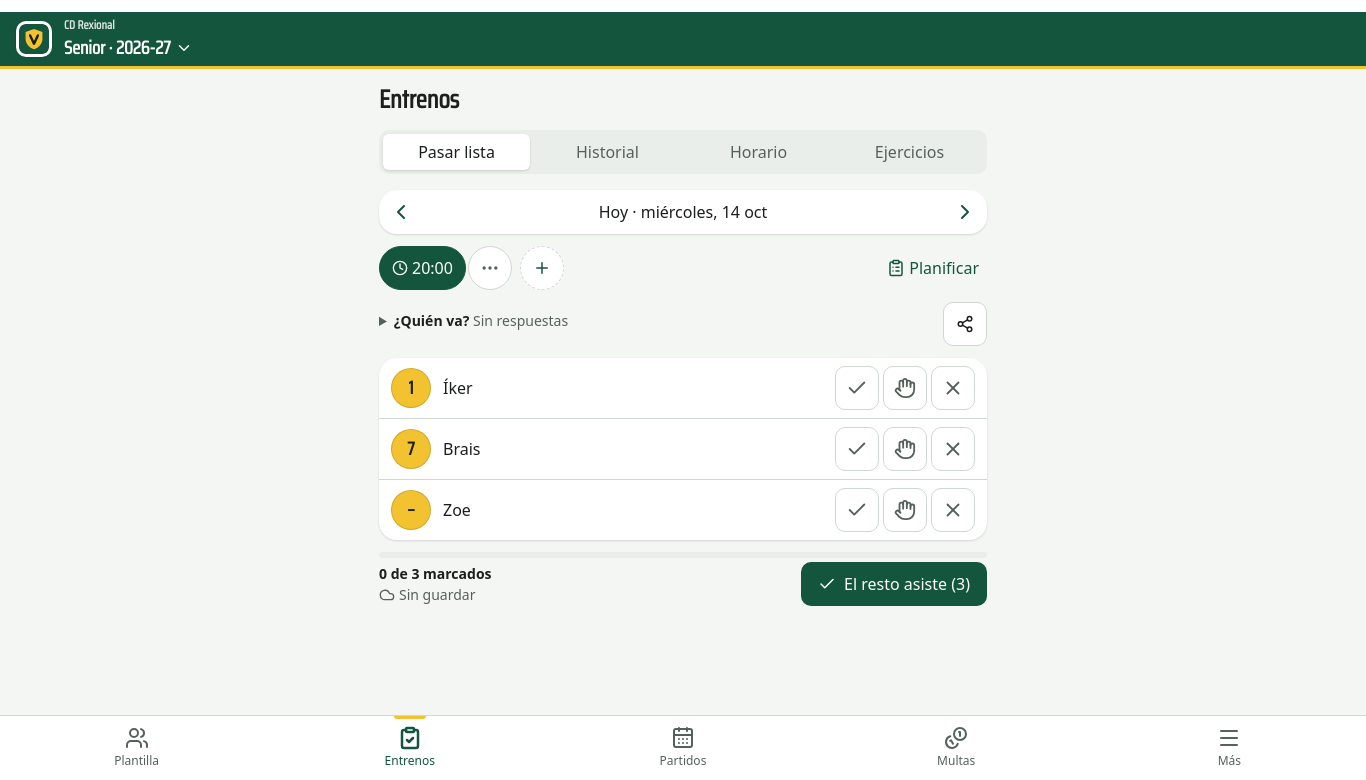
Scenario: pasar lista › marca, desmarca y guarda la lista completa automáticamente
expect the text "Íker" is shown: met, box [443, 377, 473, 399]
expect the text "0 de 3 marcados" is shown: met, box [379, 564, 492, 583]
Click the button named "Asiste" in the row of "Íker" at coordinates (857, 388), box [835, 366, 879, 410]
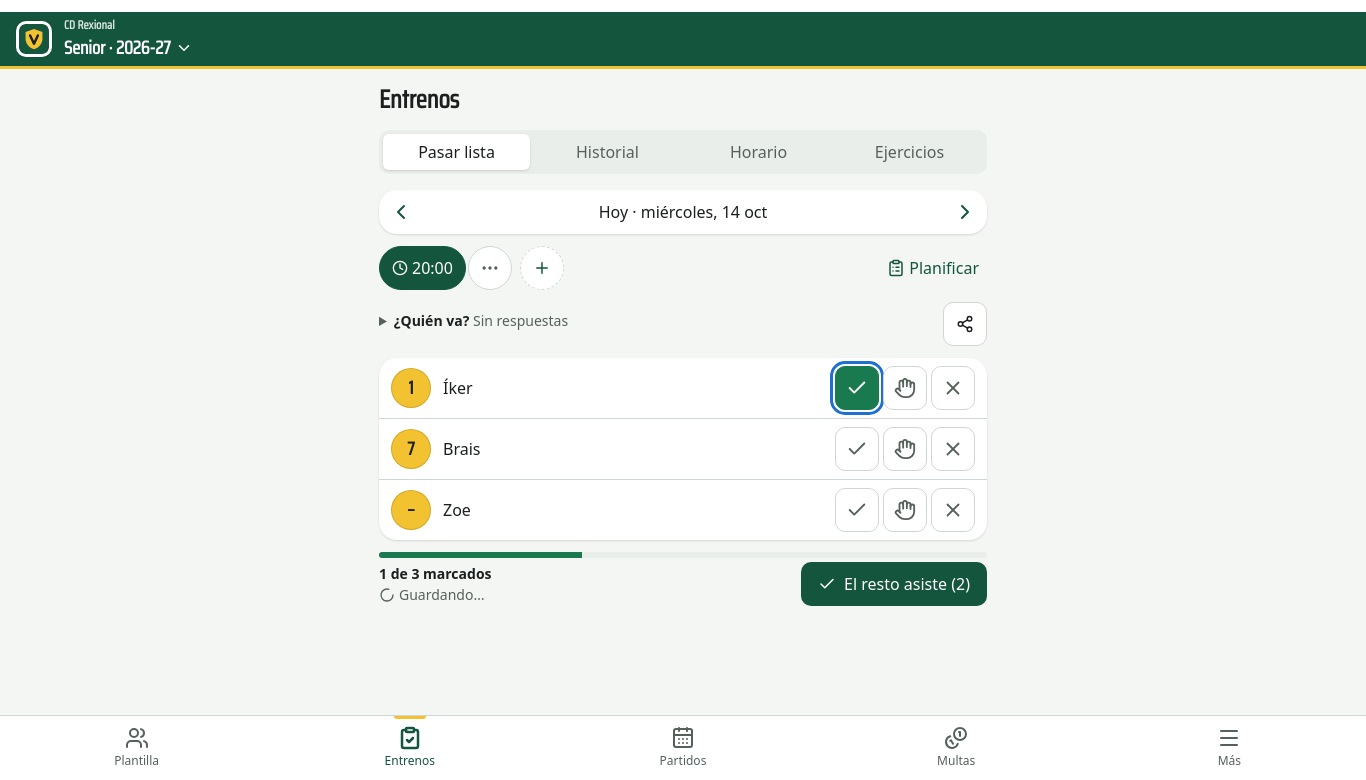
Click the button named "Falta" in the row of "Brais" at coordinates (953, 449), box [931, 427, 975, 471]
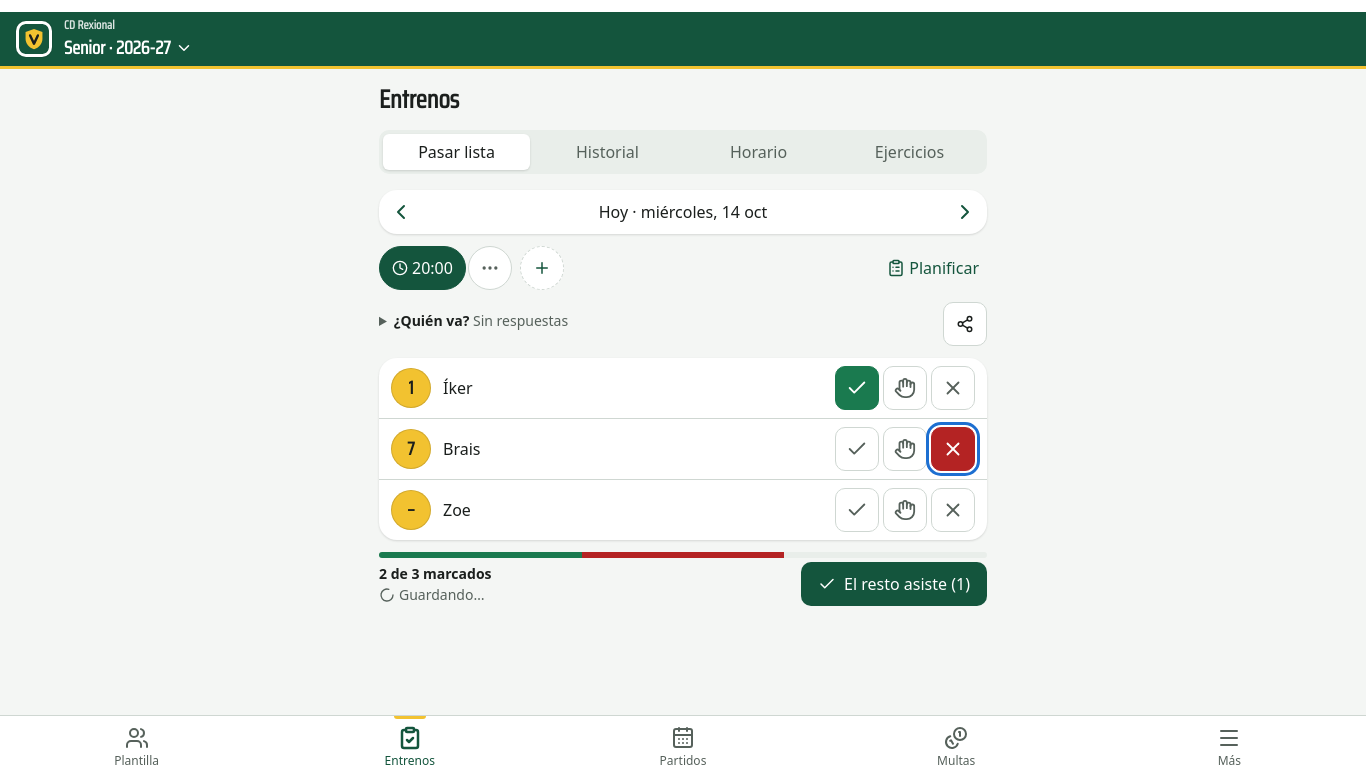
Click the button named "Asiste" in the row of "Zoe" at coordinates (857, 510), box [835, 488, 879, 532]
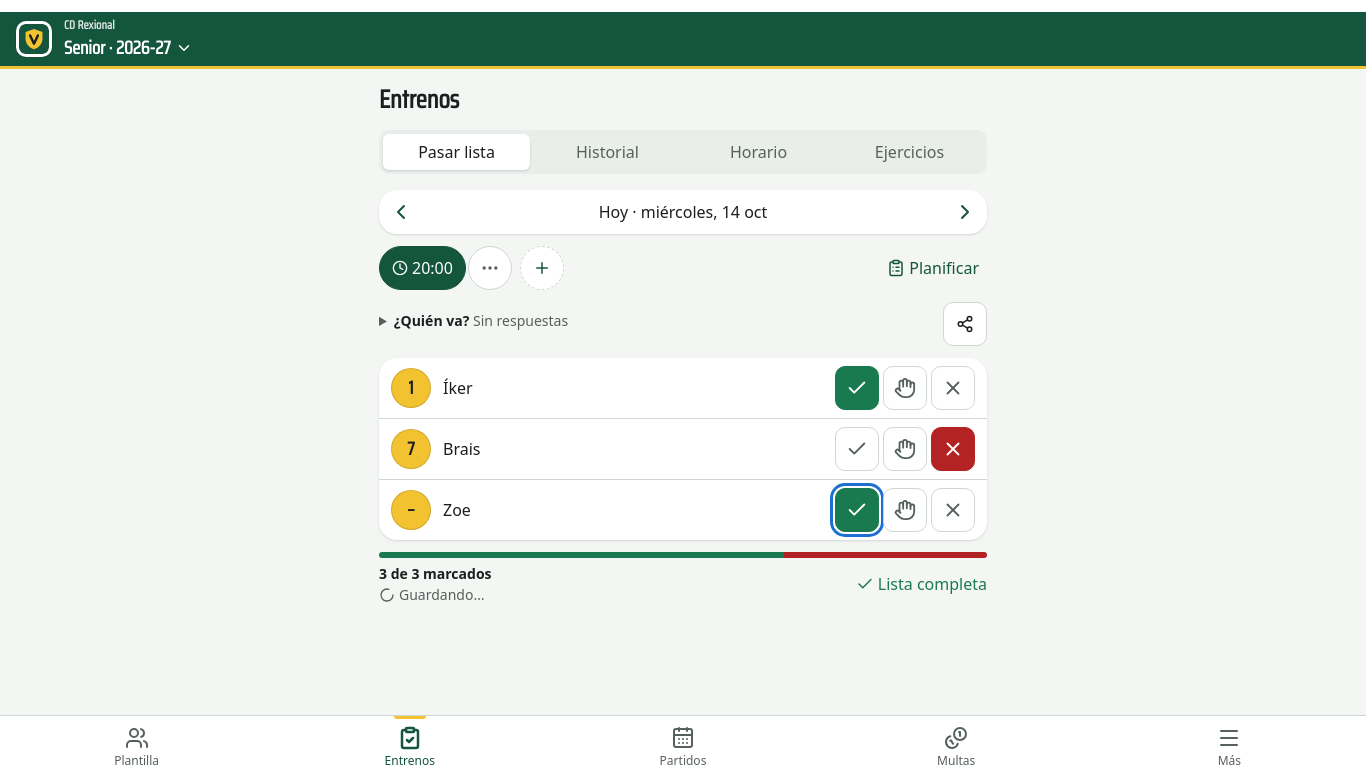
Click the button named "Asiste" in the row of "Zoe" at coordinates (857, 510), box [835, 488, 879, 532]
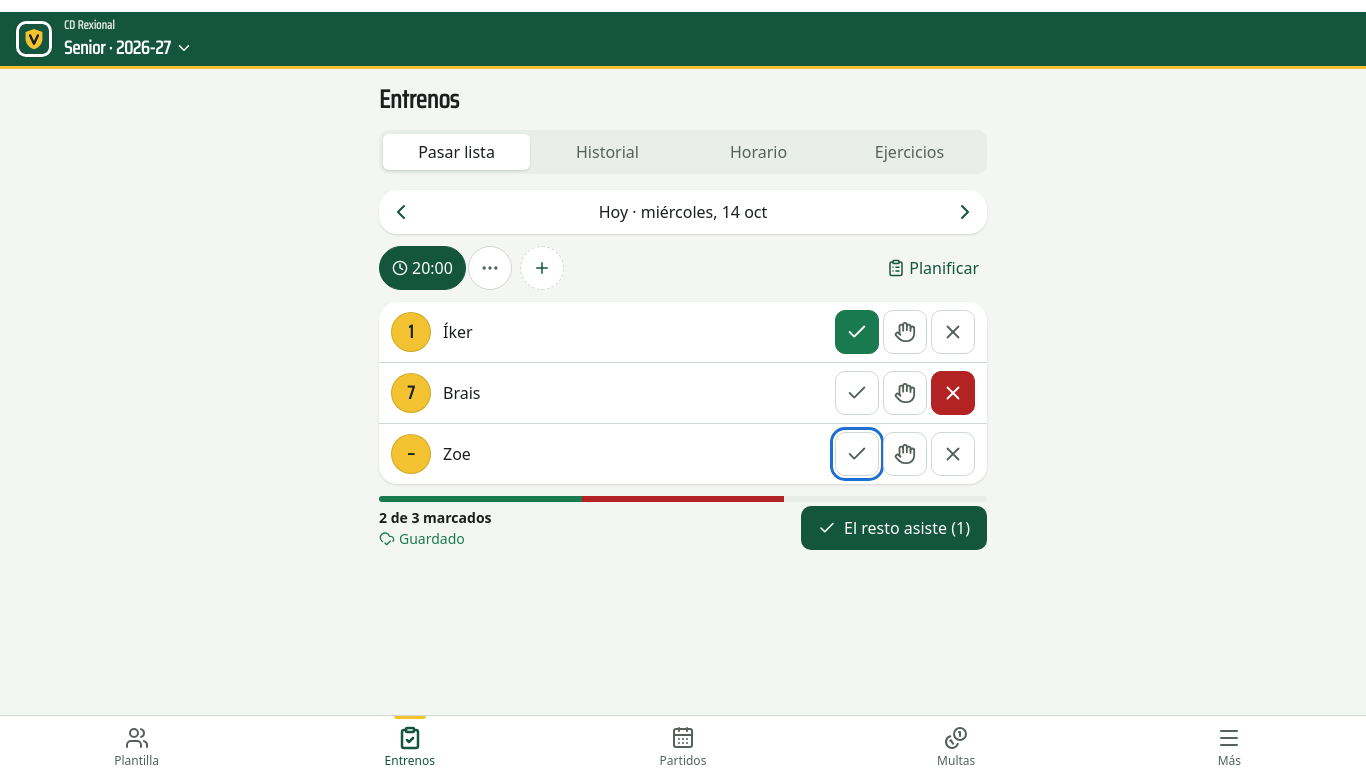
expect the text "Guardado" is shown: met, box [399, 528, 465, 549]
